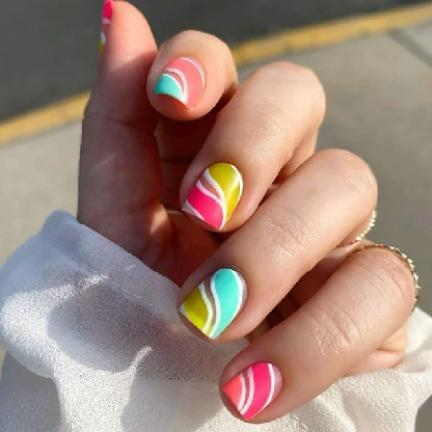Nail: (179, 267, 247, 339), (182, 162, 243, 230), (223, 362, 283, 420), (153, 57, 206, 107), (99, 0, 113, 54)
